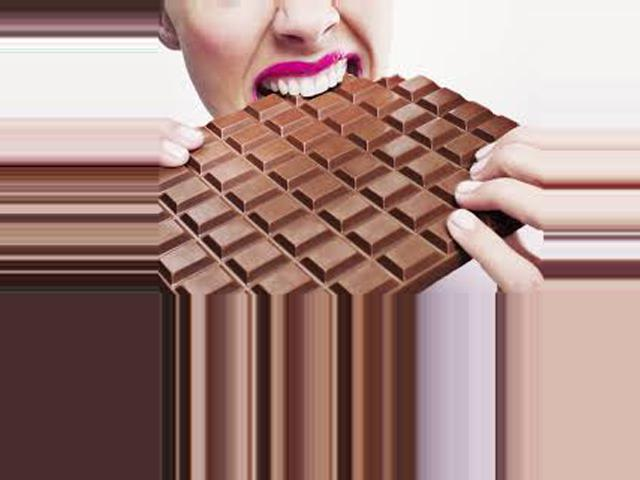chocolate: (160, 65, 545, 294)
